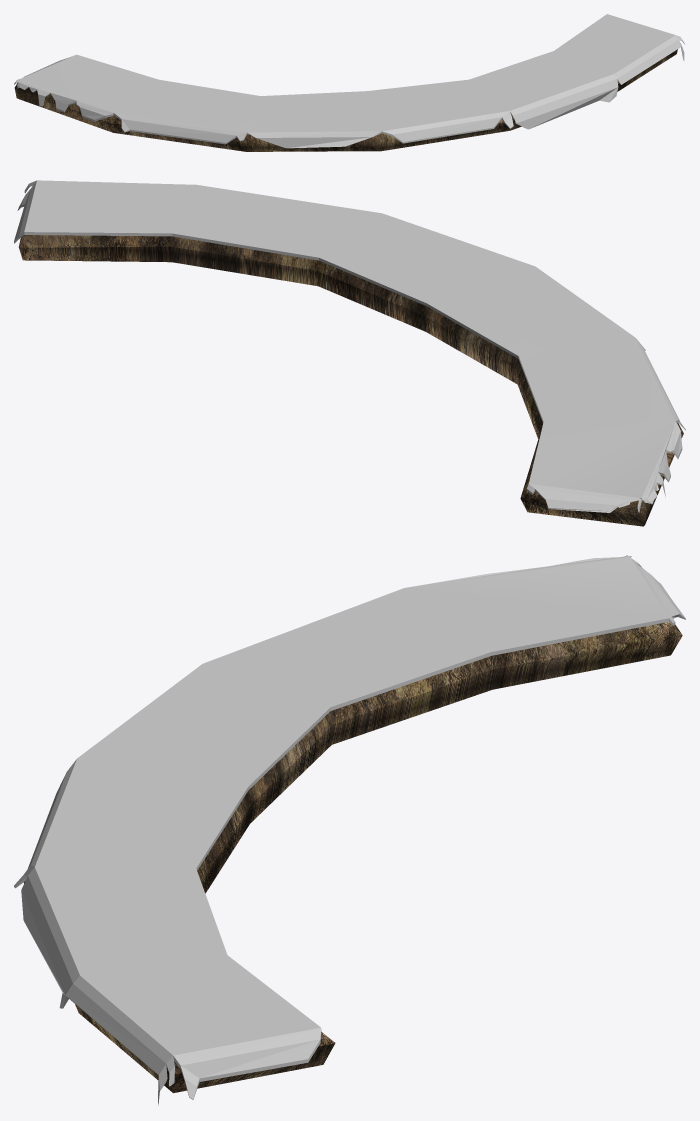
File: Plat02.FBX
The picture shows the model from 3 angles, top to bottom: view 1: azimuth 30°, elevation 25°; view 2: azimuth 150°, elevation 25°; view 3: azimuth 270°, elevation 25°; orthographic projection. The views are drawn at different scales.
Parts seen in each view (by area): view 1: Plat02; view 2: Plat02; view 3: Plat02.
Part boxes in pixels (x1,y1,x2,y2): Plat02: (14,14,685,151); Plat02: (14,180,685,526); Plat02: (14,555,685,1105).
Size of what is drawn, in the model's own units: 97.42 by 4.21 by 53.94.
